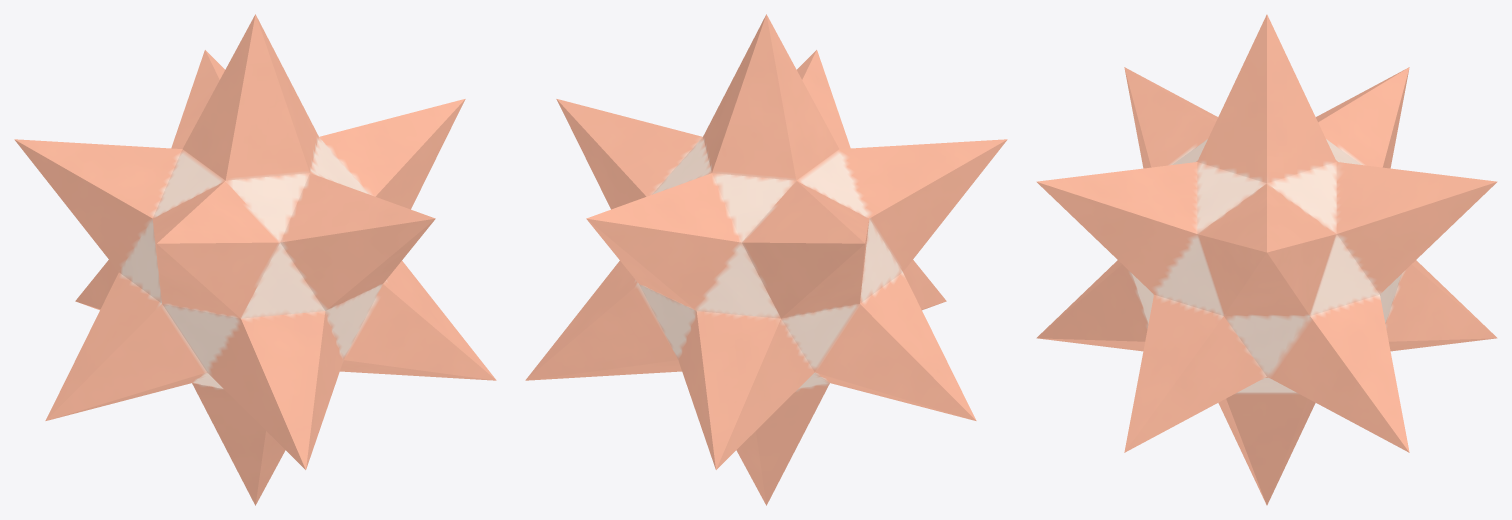
File: star-hearth.glb
3 renders of one model, left to right at view 1: azimuth 30°, elevation 25°; view 2: azimuth 150°, elevation 25°; view 3: azimuth 270°, elevation 25°, orthographic.
Parts seen in each view (by area): view 1: Star_Hearth; view 2: Star_Hearth; view 3: Star_Hearth.
Part boxes in pixels (x1=…): Star_Hearth: x1=14, y1=14, x2=496, y2=505; Star_Hearth: x1=525, y1=14, x2=1007, y2=505; Star_Hearth: x1=1036, y1=14, x2=1497, y2=505.
Bounding box in the file's own units: 3.13 × 3.5 × 2.98.
Materials: 1 (1 with a texture image).
